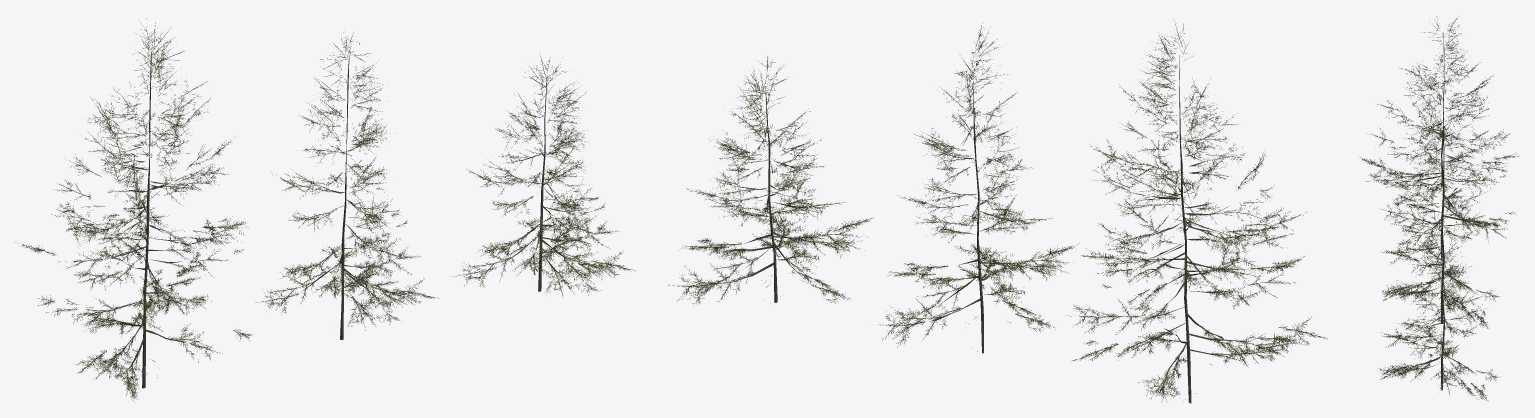
Rendered from fir_medium.glb.
The picture shows the model from 3 angles, left to right: view 1: azimuth 30°, elevation 25°; view 2: azimuth 150°, elevation 25°; view 3: azimuth 270°, elevation 25°; orthographic projection. The views are drawn at different scales.
Visible parts, largest first — view 1: fir_sapling_medium_a_LOD0, fir_sapling_medium_b_LOD0, fir_sapling_medium_c_LOD0; view 2: fir_sapling_medium_a_LOD0, fir_sapling_medium_b_LOD0, fir_sapling_medium_c_LOD0; view 3: fir_sapling_medium_a_LOD0, fir_sapling_medium_b_LOD0, fir_sapling_medium_c_LOD0.
Part boxes in pixels (bbox=[...]): fir_sapling_medium_a_LOD0: bbox=[15, 18, 251, 400]; fir_sapling_medium_b_LOD0: bbox=[255, 32, 439, 339]; fir_sapling_medium_c_LOD0: bbox=[452, 54, 635, 297]; fir_sapling_medium_a_LOD0: bbox=[1065, 20, 1327, 403]; fir_sapling_medium_b_LOD0: bbox=[879, 23, 1079, 353]; fir_sapling_medium_c_LOD0: bbox=[668, 56, 873, 304]; fir_sapling_medium_a_LOD0: bbox=[1360, 16, 1519, 257]; fir_sapling_medium_b_LOD0: bbox=[1380, 112, 1499, 328]; fir_sapling_medium_c_LOD0: bbox=[1379, 232, 1500, 401].
Size of the model in its own units: 14.72 by 8.71 by 5.21.
Materials: 3 (3 with a texture image).
